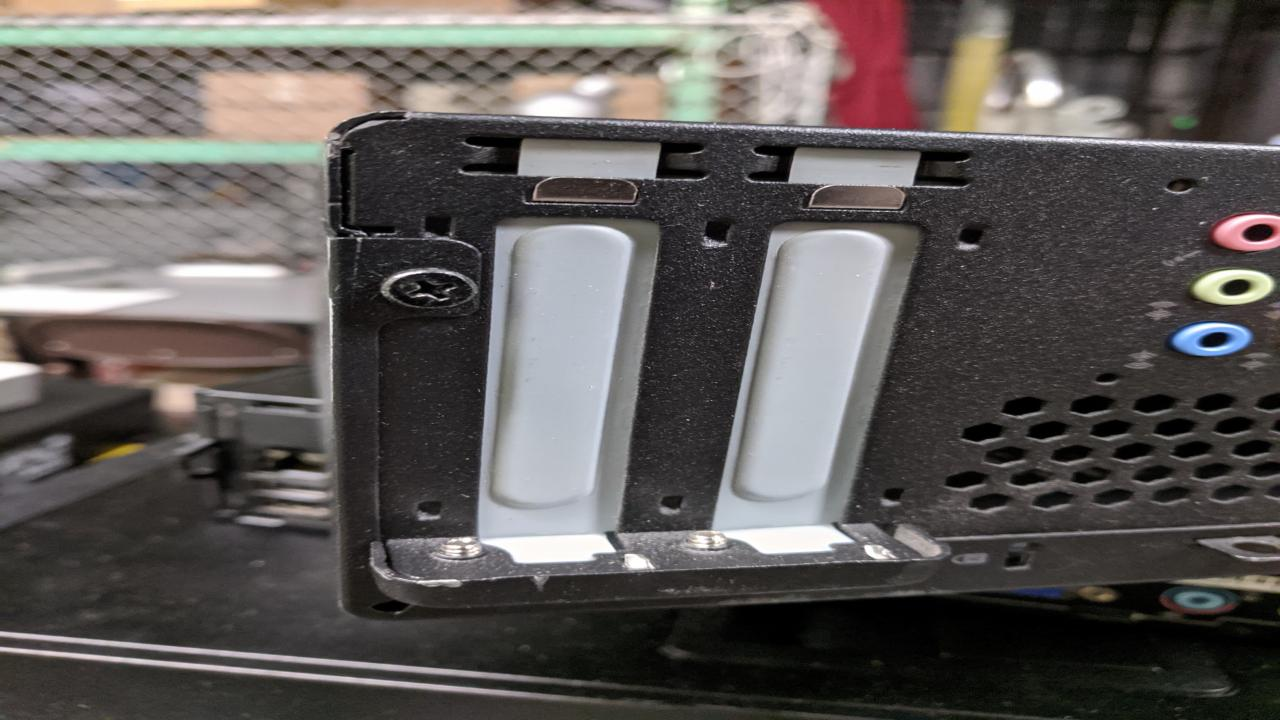CRS: (374, 266, 483, 309)
